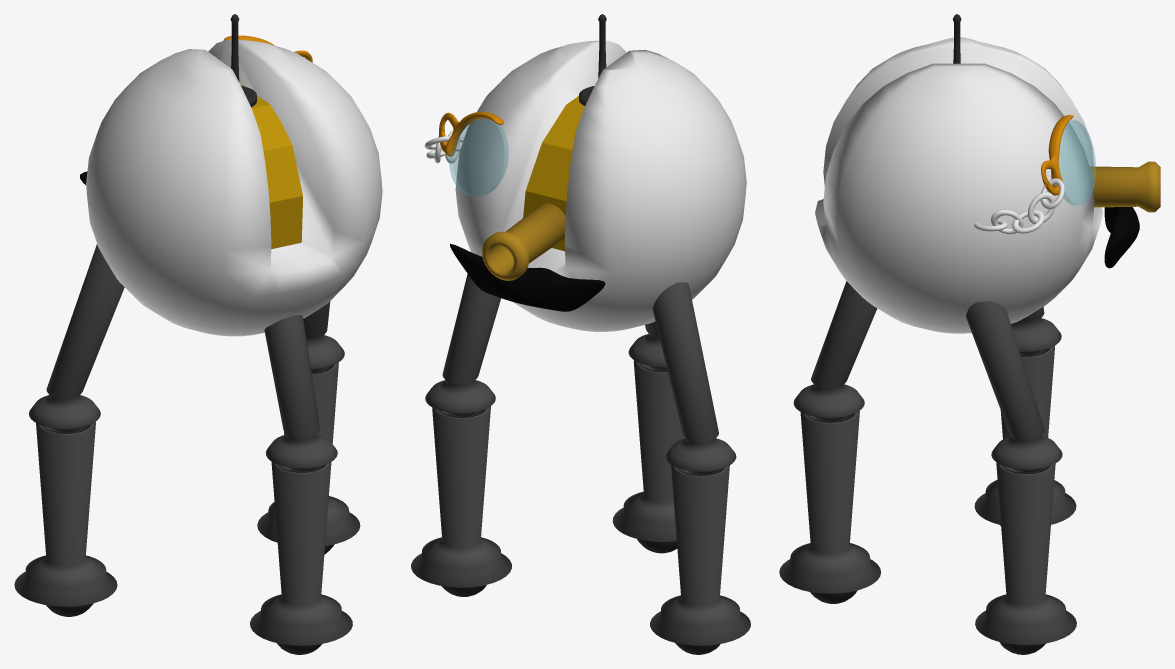
Rendered from Robot.fbx.
The picture shows the model from 3 angles, left to right: view 1: azimuth 30°, elevation 25°; view 2: azimuth 150°, elevation 25°; view 3: azimuth 270°, elevation 25°; orthographic projection.
Visible parts, largest first — view 1: Head, Shin1.001, Shin1.002, Leg1.001, Leg1.002, Rotator, Shin1, Leg1, Antenna; view 2: Head, Shin1, Shin1.001, Leg1.001, Shin1.002, Leg1, Mustache, Nose, MonocleGlass, Rotator, Leg1.002, MonocleHolder (+1 smaller); view 3: Head, Shin1.002, Shin1, Leg1, Leg1.002, Shin1.001, Nose, MonocleGlass, Mustache, Leg1.001, MonocleHolder.
Part boxes in pixels (x1,y1,x2,y2): Head: [86, 39, 382, 336]; Shin1.001: [14, 422, 117, 606]; Shin1.002: [250, 461, 352, 645]; Leg1.001: [29, 244, 124, 432]; Leg1.002: [264, 315, 337, 471]; Rotator: [240, 84, 302, 248]; Shin1: [257, 362, 360, 545]; Leg1: [303, 301, 344, 372]; Antenna: [230, 14, 256, 107]; Head: [455, 40, 746, 331]; Shin1: [411, 406, 511, 587]; Shin1.001: [650, 465, 750, 645]; Leg1.001: [652, 282, 736, 474]; Shin1.002: [612, 360, 685, 541]; Leg1: [425, 274, 501, 416]; Mustache: [450, 243, 605, 311]; Nose: [482, 203, 565, 280]; MonocleGlass: [449, 118, 508, 196]; Rotator: [523, 96, 584, 251]; Leg1.002: [628, 321, 667, 370]; MonocleHolder: [439, 112, 503, 156]; Head: [815, 37, 1102, 333]; Shin1.002: [779, 411, 880, 593]; Shin1: [975, 462, 1076, 644]; Leg1: [966, 301, 1062, 472]; Leg1.002: [793, 281, 877, 421]; Shin1.001: [974, 345, 1076, 524]; Nose: [1089, 161, 1160, 212]; MonocleGlass: [1059, 120, 1095, 205]; Mustache: [1104, 207, 1139, 268]; Leg1.001: [1011, 307, 1061, 355]; MonocleHolder: [1041, 115, 1073, 195].
Bounding box in the file's own units: 258 × 440 × 260.
